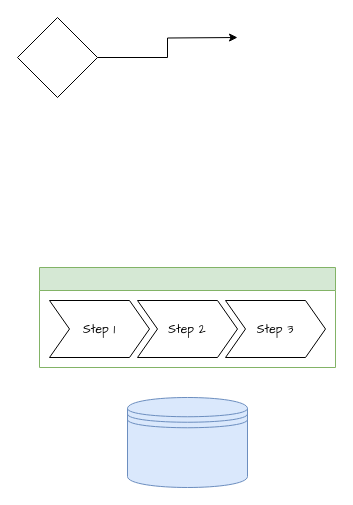
The diagram is 353 pixels wide and 505 high, and some of its shapes have lost their labels. The shapes that lost their labels are listed below. From the top down, each one's box as (x1, y1, x2, y2) in pixels, then its label:
(38, 266, 336, 368): Process Bar
(126, 396, 248, 488): buffer
